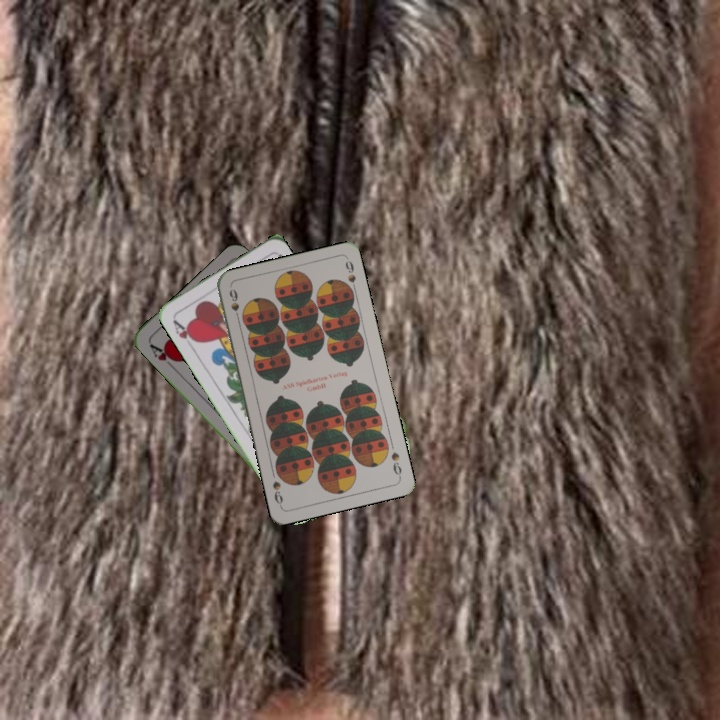HA: (145, 340, 180, 372), (169, 315, 200, 345)
S9: (225, 284, 243, 325), (387, 448, 404, 480)
